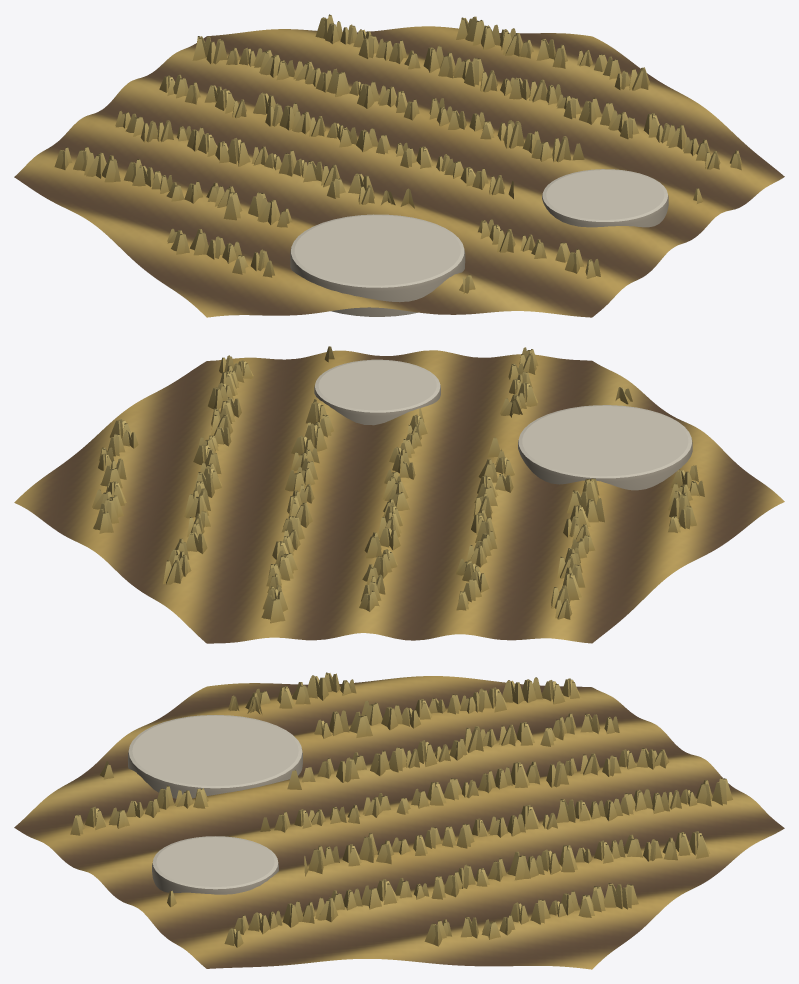
File: terrain_fields.glb
3 views of the same model, one above another, from view 1: azimuth 30°, elevation 25°; view 2: azimuth 150°, elevation 25°; view 3: azimuth 270°, elevation 25° (orthographic).
Parts seen in each view (by area): view 1: fields_ground, fields_tufts, pad_token_fields, pad_robber_fields; view 2: fields_ground, fields_tufts, pad_token_fields, pad_robber_fields; view 3: fields_ground, fields_tufts, pad_token_fields, pad_robber_fields.
Part boxes in pixels (x1,y1,x2,y2): fields_ground: [14, 26, 784, 317]; fields_tufts: [54, 14, 742, 293]; pad_token_fields: [290, 214, 465, 316]; pad_robber_fields: [542, 169, 668, 227]; fields_ground: [14, 350, 784, 643]; fields_tufts: [92, 346, 704, 623]; pad_token_fields: [518, 405, 692, 490]; pad_robber_fields: [314, 359, 440, 425]; fields_ground: [14, 676, 784, 969]; fields_tufts: [70, 672, 732, 947]; pad_token_fields: [128, 715, 302, 798]; pad_robber_fields: [152, 836, 278, 894].
Size of the model in its own units: 1.52 by 0.1225 by 1.76.
